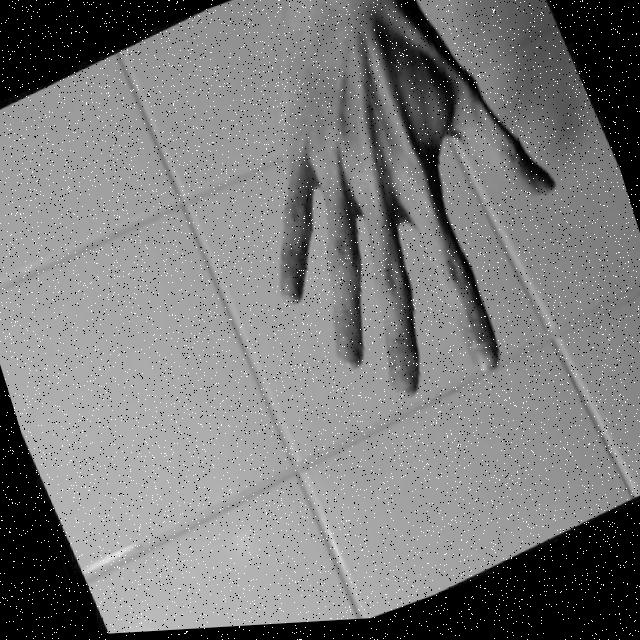hand: (186, 0, 604, 446)
